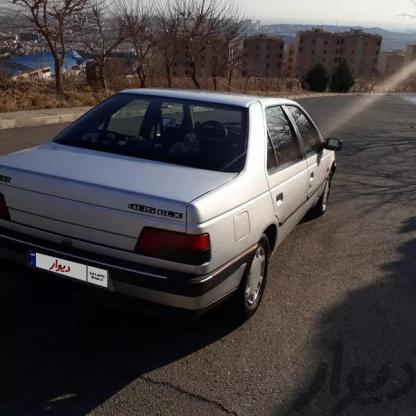Car: (0, 86, 338, 322)
